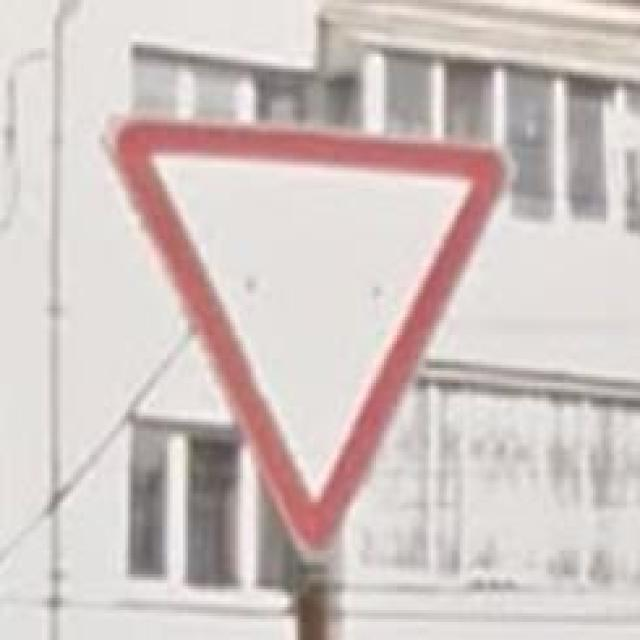give_way: (104, 111, 512, 568)
